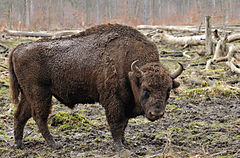zubr: (3, 17, 190, 158)
